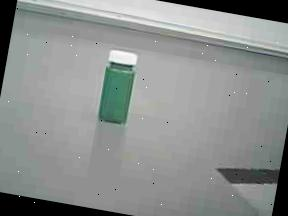Bottle C: (84, 38, 154, 136)
